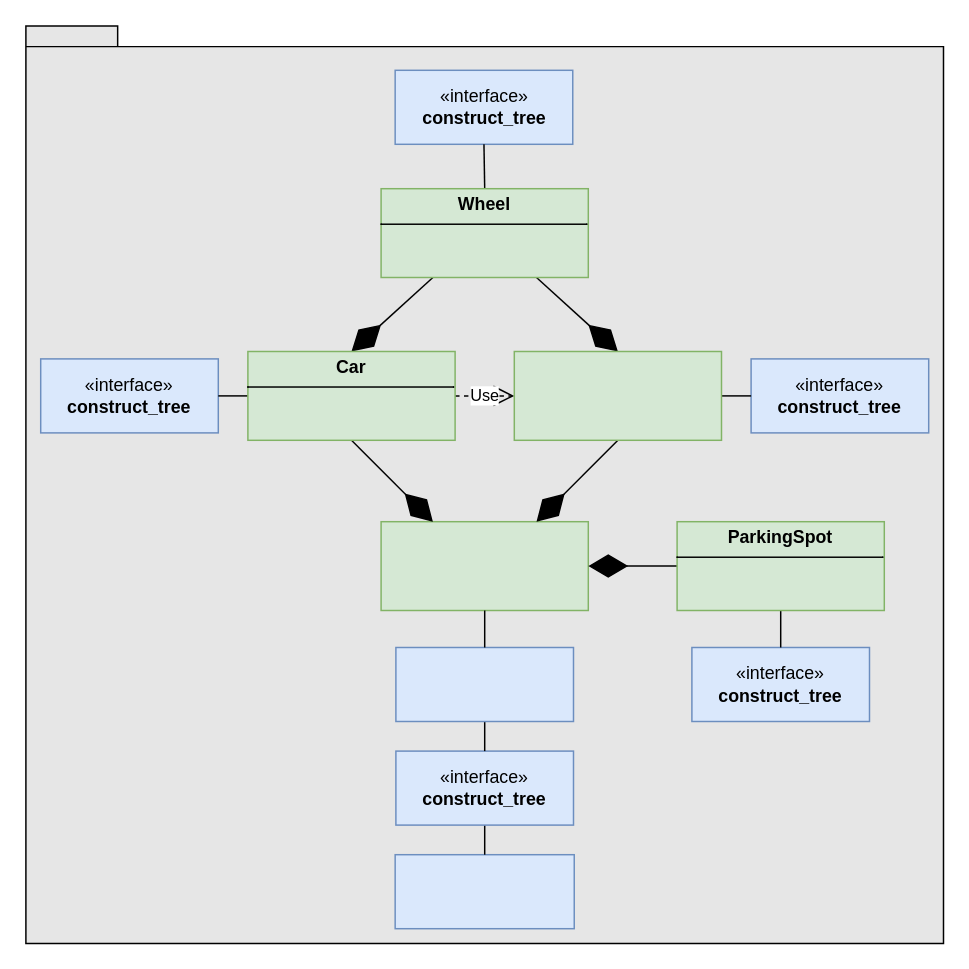
This 969x969 diagram has some shape labels left out. The centre of each missing label's shape, as x and y in pixels:
GeneratorClass: [484,565]
Trailer: [617,395]
«interface» _generate_map: [484,684]
«interface» generate_MJCF: [484,891]
